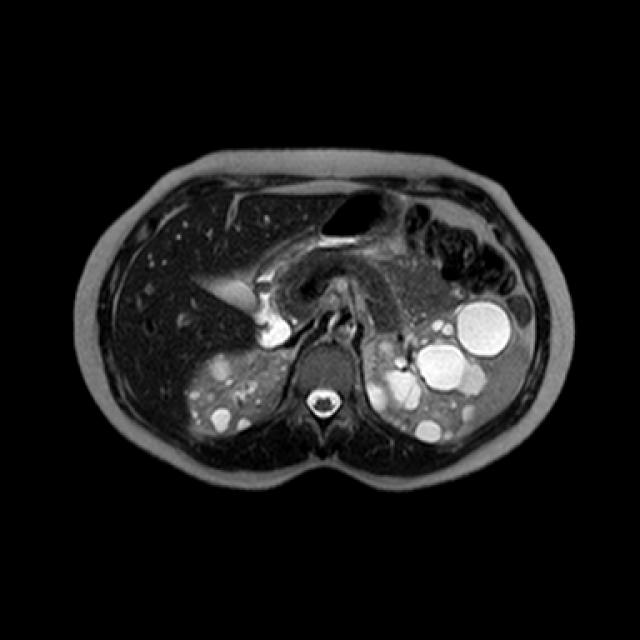sag: (186, 346, 294, 437)
sol: (364, 299, 518, 447)
